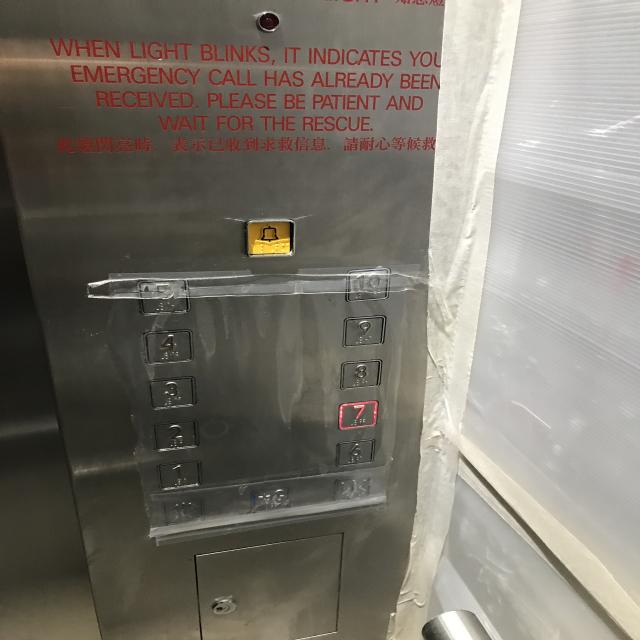1: (156, 459, 203, 491)
10: (343, 266, 392, 302)
2: (151, 418, 200, 452)
3: (146, 376, 197, 410)
4: (141, 329, 195, 365)
5: (134, 278, 192, 316)
6: (334, 437, 376, 467)
7: (336, 399, 380, 430)
8: (338, 358, 382, 391)
9: (341, 314, 386, 348)
alarm: (244, 216, 296, 258)
keyhole: (210, 595, 238, 617)
